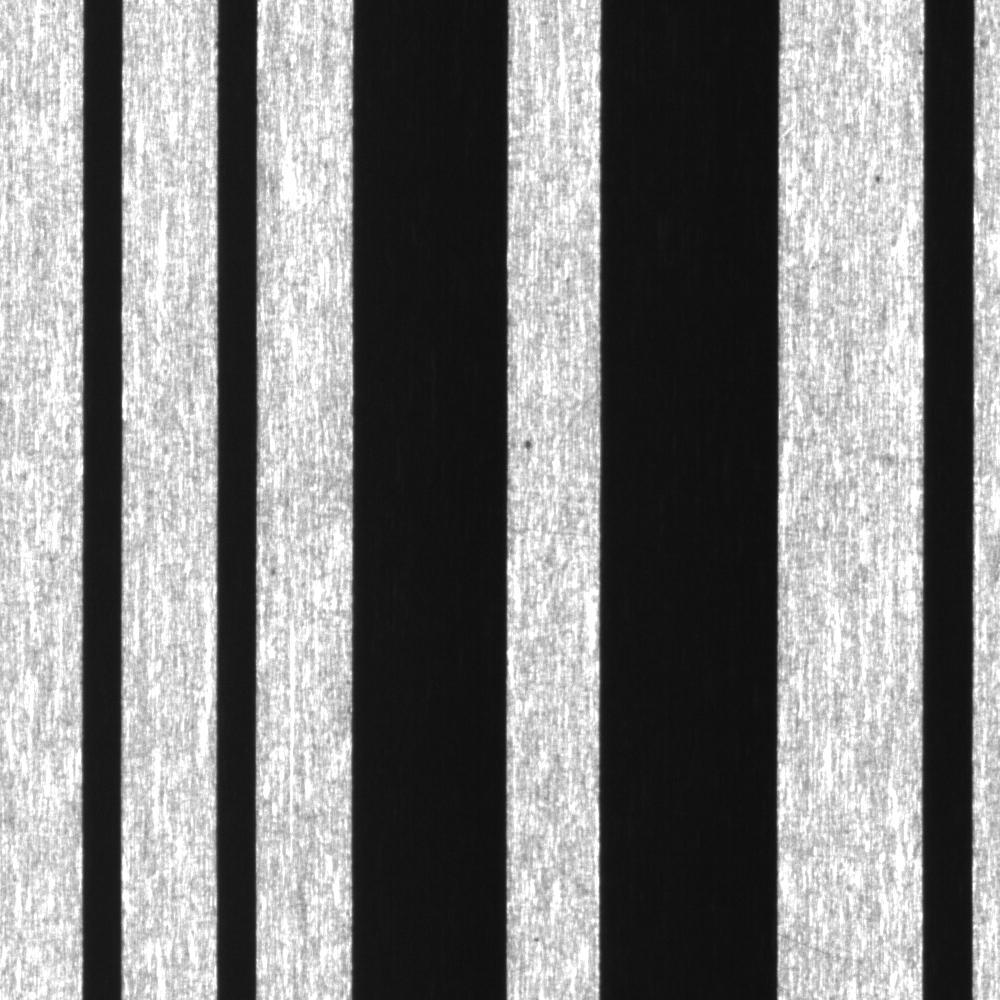Pinhole: (859, 156, 900, 193), (514, 421, 550, 463), (522, 924, 555, 954)
Scar: (777, 920, 865, 976)
